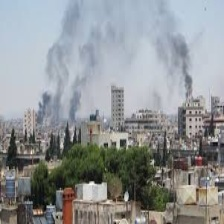smoke: (34, 8, 97, 122), (143, 2, 200, 100)
